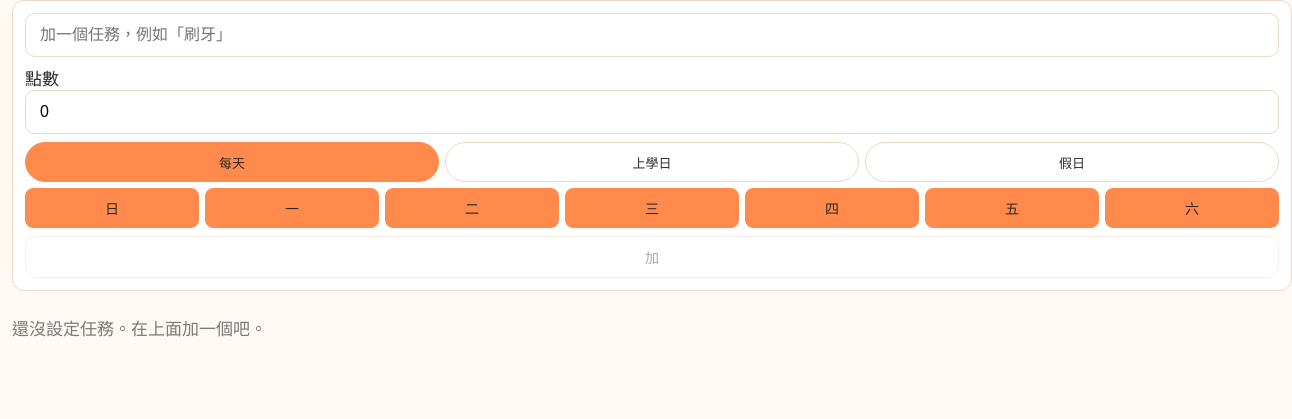
TasksPage › shows default order hint when tasks exist
The width and height of the screenshot is (1292, 419).
Type "刷牙" into the field named "新任務".
click(652, 35); type("刷牙")  # box [25,13,1279,57]
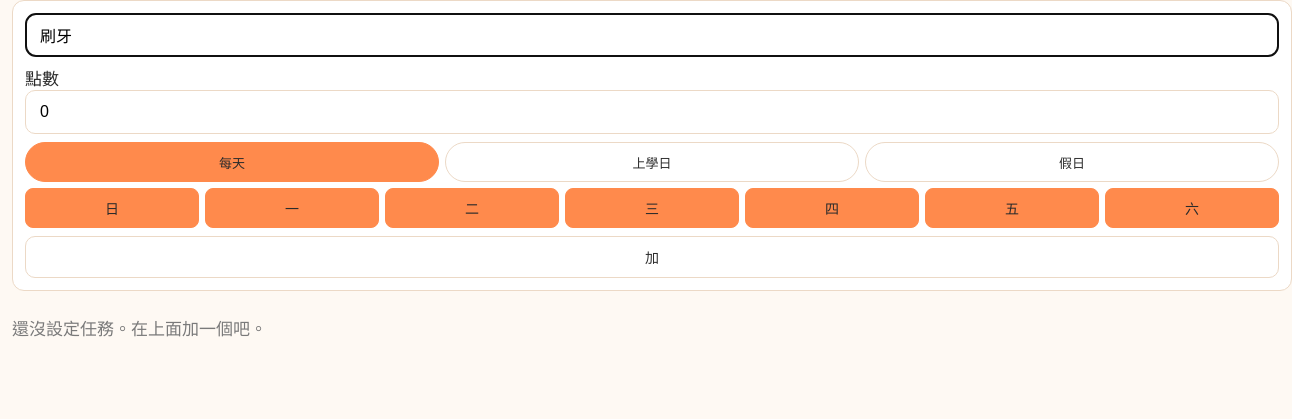
Click the button "加".
click(652, 257)  # box [25,236,1279,278]
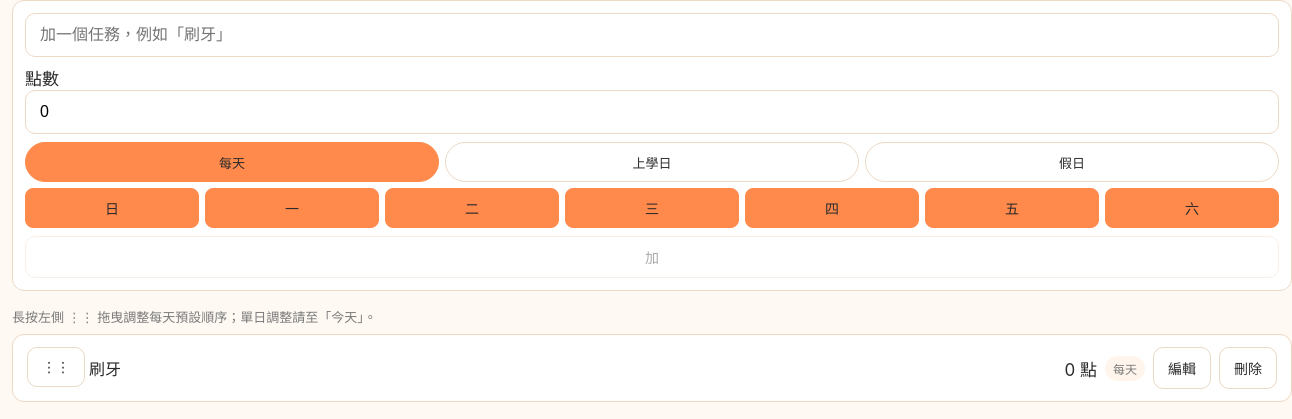
Expected: the text "長按左側 ⋮⋮ 拖曳調整每天預設順序；單日調整請至「今天」。" is shown, [12,309,377,325]
